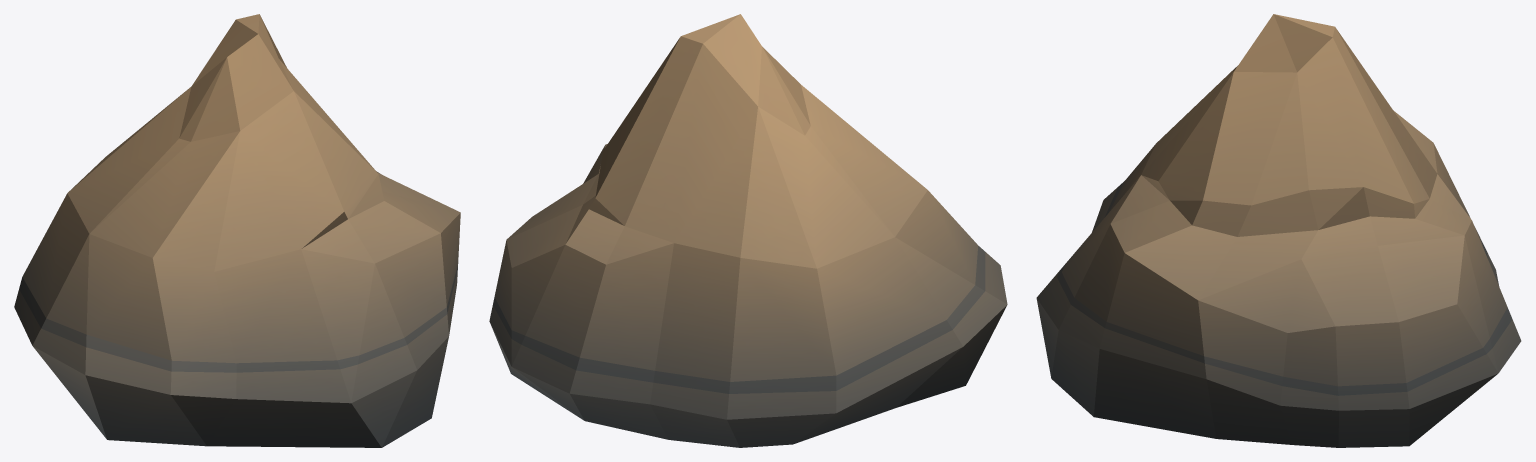
File: RockCanyon004.fbx
3 views of the same model, side by side, from view 1: azimuth 30°, elevation 25°; view 2: azimuth 150°, elevation 25°; view 3: azimuth 270°, elevation 25° (orthographic). The views are drawn at different scales.
Visible parts, largest first — view 1: RockCanyon004; view 2: RockCanyon004; view 3: RockCanyon004.
Part boxes in pixels (x1,y1,x2,y2): RockCanyon004: (14, 14, 460, 447); RockCanyon004: (489, 14, 1007, 447); RockCanyon004: (1036, 14, 1521, 447).
Size of the model in its own units: 120 by 97.99 by 120.
